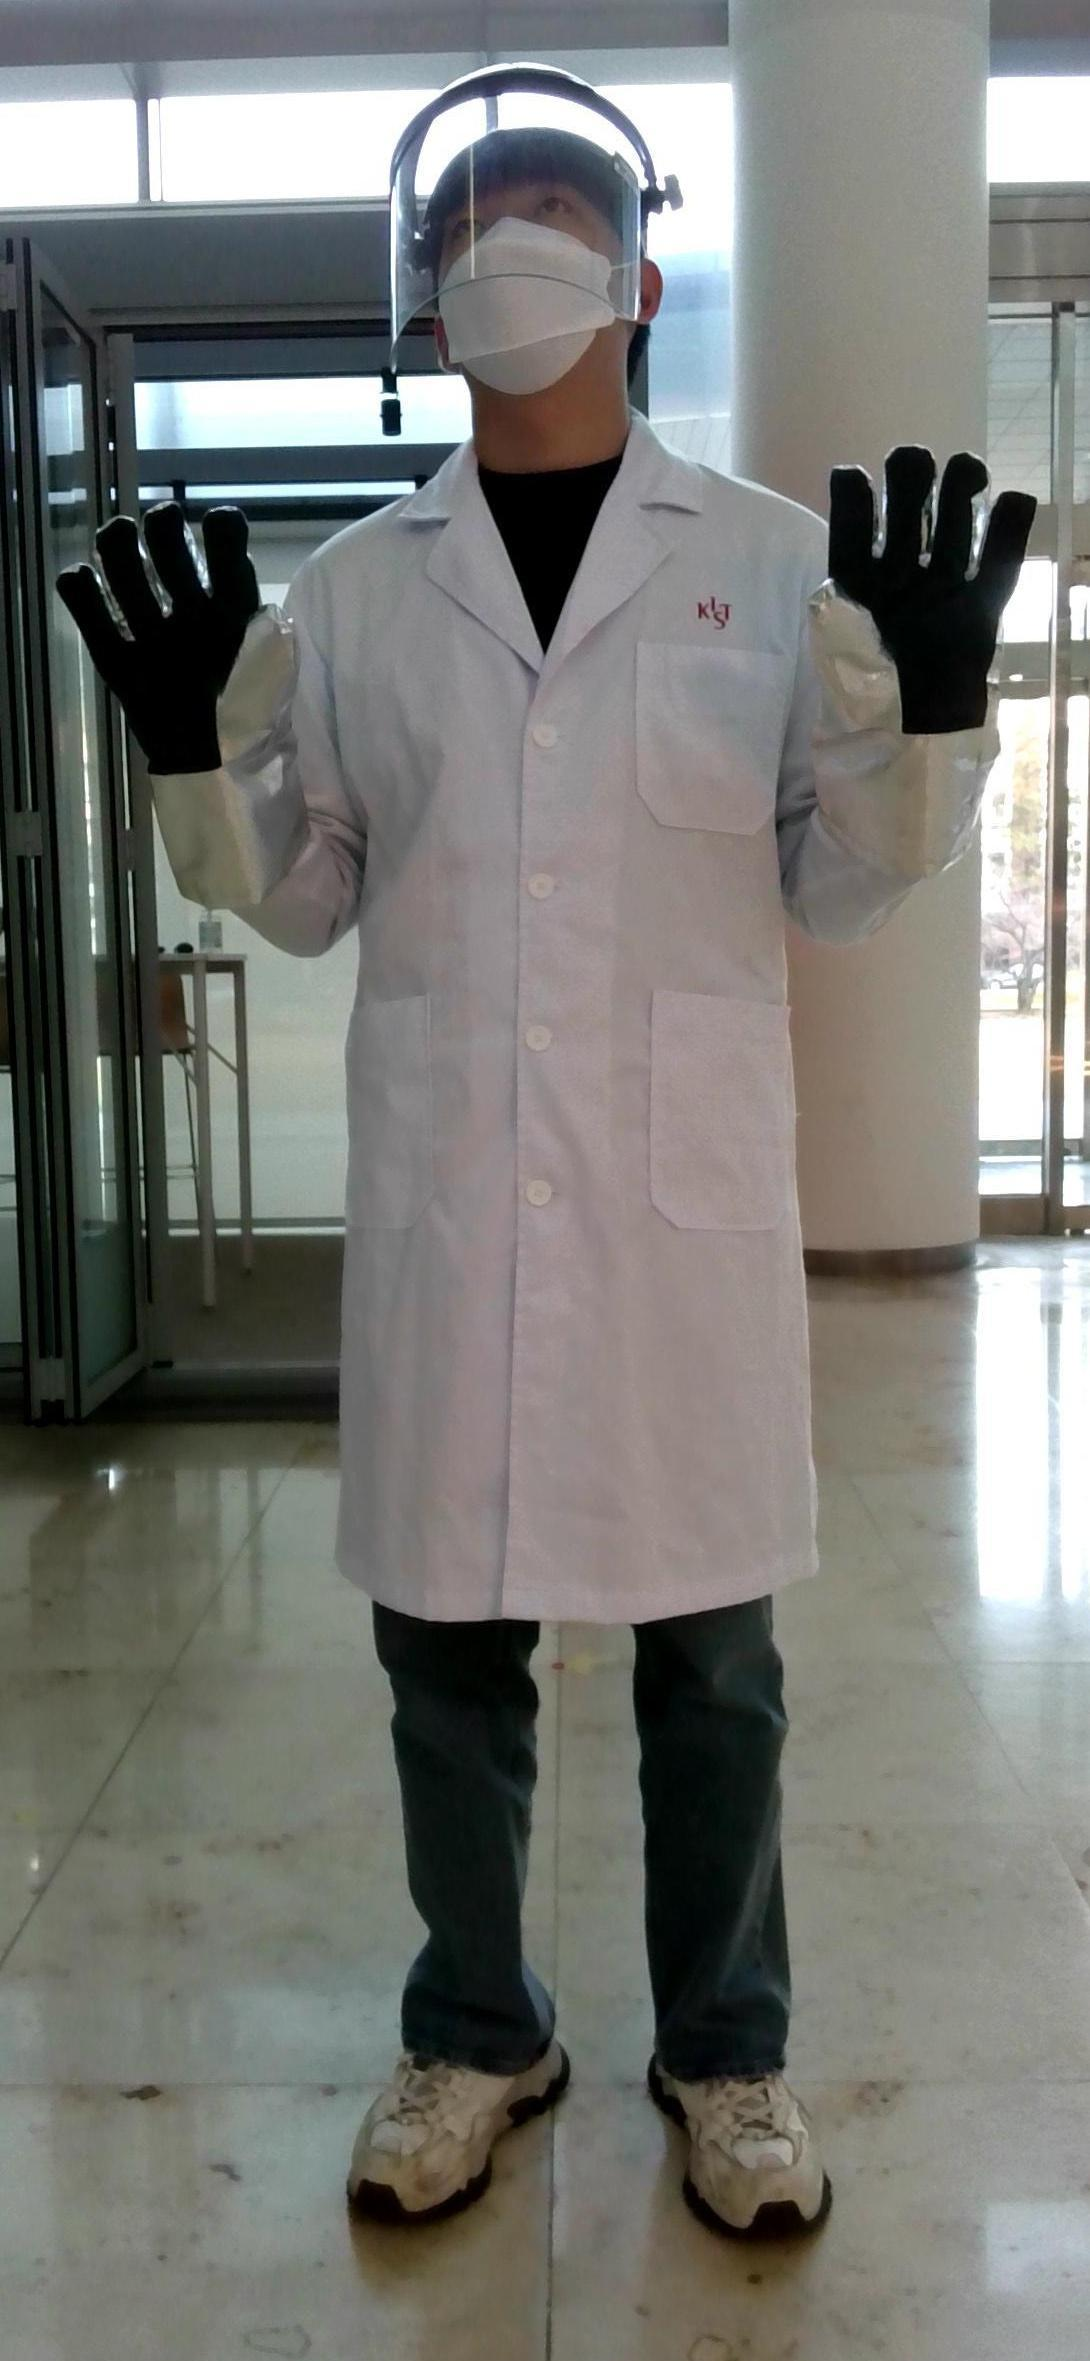lab_coat: (297, 512, 827, 1608)
